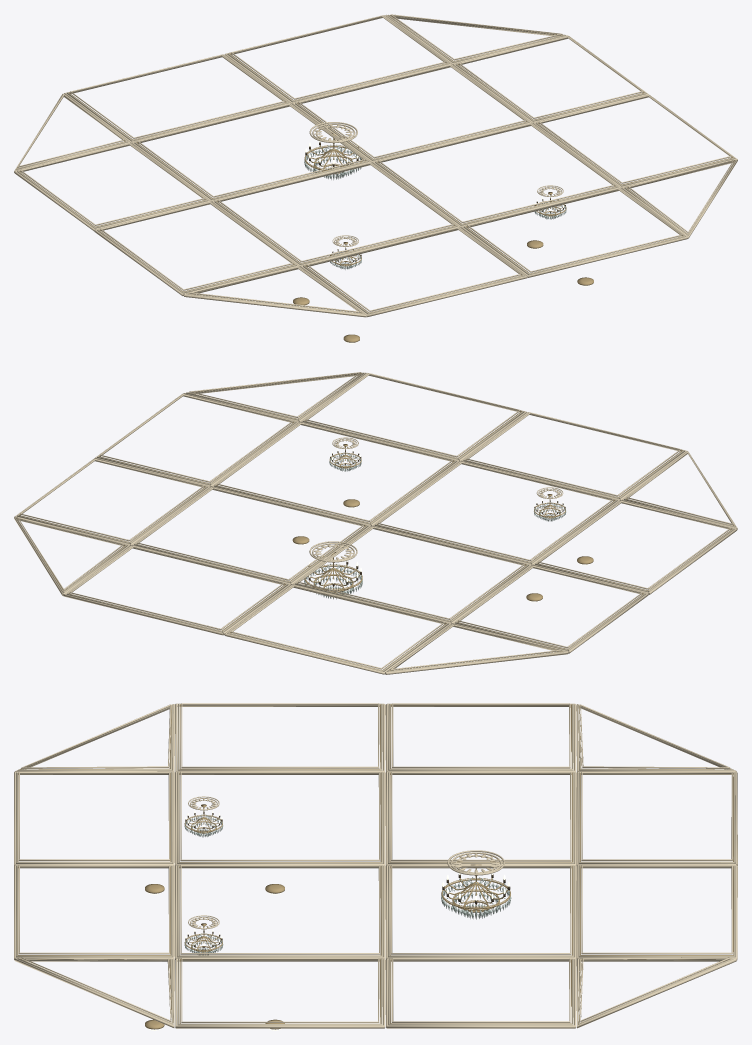
File: hotel-grand-ceiling.glb
3 views of the same model, one above another, from view 1: azimuth 30°, elevation 25°; view 2: azimuth 150°, elevation 25°; view 3: azimuth 270°, elevation 25° (orthographic). The views are drawn at different scales.
Visible parts, largest first — view 1: hotel-grand-ceiling / Hotel carved ivory, hotel-grand-ceiling / Hotel honed limestone, hotel-grand-ceiling / Hotel satin champagne brass, hotel-grand-ceiling / Hotel faceted crystal; view 2: hotel-grand-ceiling / Hotel carved ivory, hotel-grand-ceiling / Hotel honed limestone, hotel-grand-ceiling / Hotel satin champagne brass, hotel-grand-ceiling / Hotel faceted crystal; view 3: hotel-grand-ceiling / Hotel carved ivory, hotel-grand-ceiling / Hotel honed limestone, hotel-grand-ceiling / Hotel satin champagne brass, hotel-grand-ceiling / Hotel faceted crystal.
Part boxes in pixels (x1=…): hotel-grand-ceiling / Hotel carved ivory: x1=14, y1=14, x2=737, y2=317; hotel-grand-ceiling / Hotel honed limestone: x1=15, y1=14, x2=736, y2=314; hotel-grand-ceiling / Hotel satin champagne brass: x1=17, y1=15, x2=734, y2=342; hotel-grand-ceiling / Hotel faceted crystal: x1=304, y1=144, x2=566, y2=269; hotel-grand-ceiling / Hotel carved ivory: x1=14, y1=372, x2=737, y2=674; hotel-grand-ceiling / Hotel honed limestone: x1=15, y1=372, x2=735, y2=671; hotel-grand-ceiling / Hotel satin champagne brass: x1=17, y1=373, x2=734, y2=670; hotel-grand-ceiling / Hotel faceted crystal: x1=304, y1=452, x2=566, y2=599; hotel-grand-ceiling / Hotel carved ivory: x1=14, y1=703, x2=737, y2=1028; hotel-grand-ceiling / Hotel honed limestone: x1=16, y1=703, x2=735, y2=1025; hotel-grand-ceiling / Hotel satin champagne brass: x1=17, y1=704, x2=733, y2=1029; hotel-grand-ceiling / Hotel faceted crystal: x1=184, y1=814, x2=511, y2=955.
Size of the model in its own units: 38.02 by 5.42 by 36.03.
